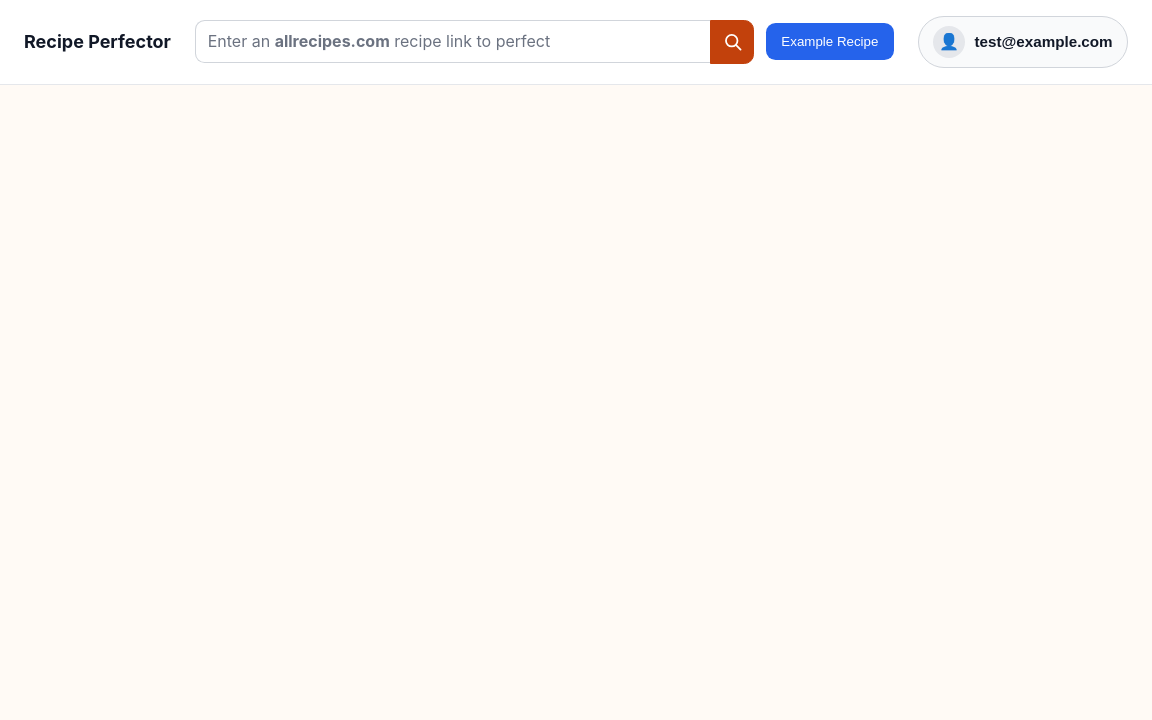
Scenario: AuthShellComponent › closes the account menu when clicking outside of it
Step 1. Click the button with class "user-menu" → [1023, 42], box [918,16,1128,68]
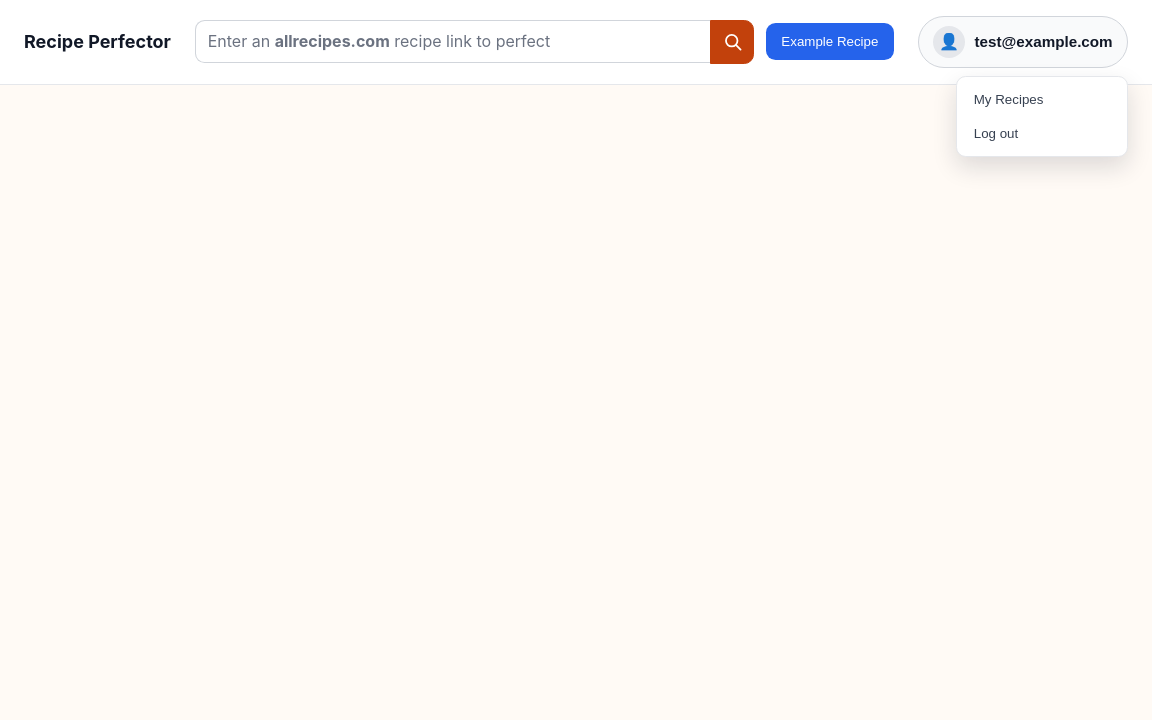
Step 2. Click the element that starts with "Recipe Perfector" → [576, 360], box [0,0,1151,719]
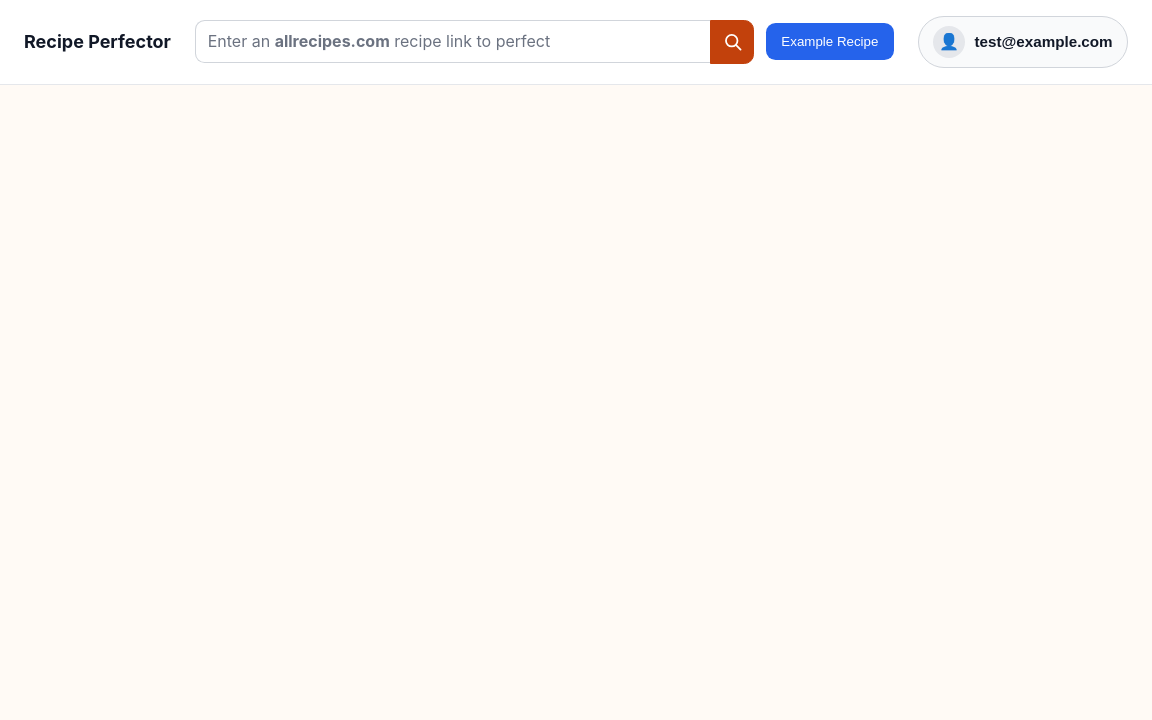
Now the menu with class "account-menu" is gone
